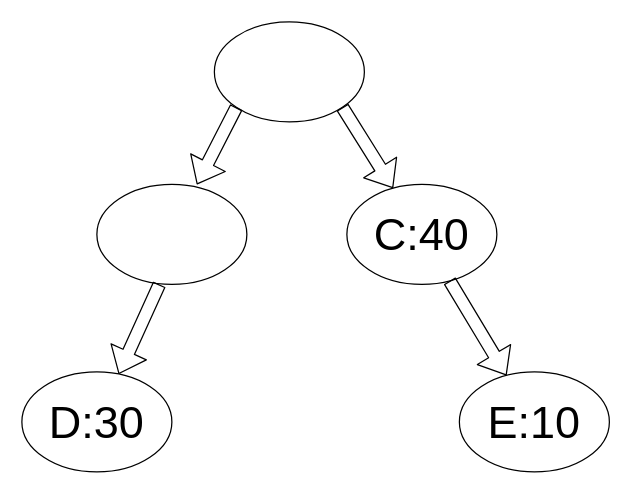
Some shapes in this 631 by 494 pixel diagram are drawn without their labels. The shapes that lost their labels are listed below. From the top down, each one's centre as x and y in pixels, then its label:
At (x=288, y=71): "A:5".
At (x=171, y=233): "B:20".
